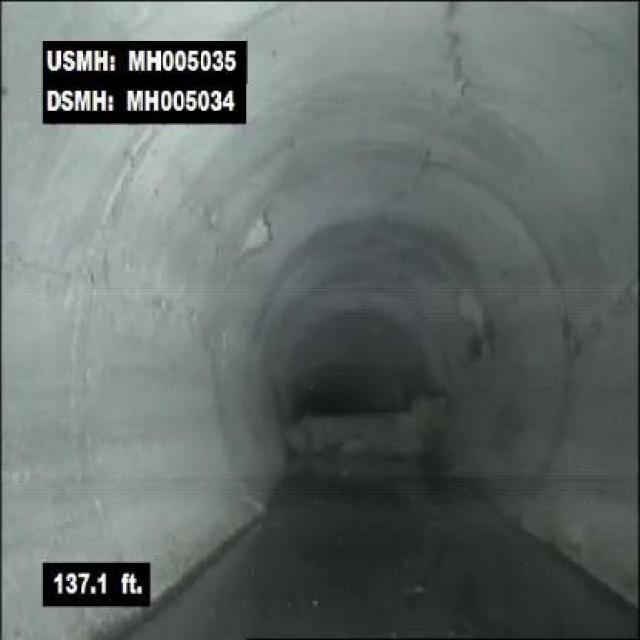Crack: (416, 0, 495, 132), (572, 265, 638, 366), (6, 240, 77, 285)
